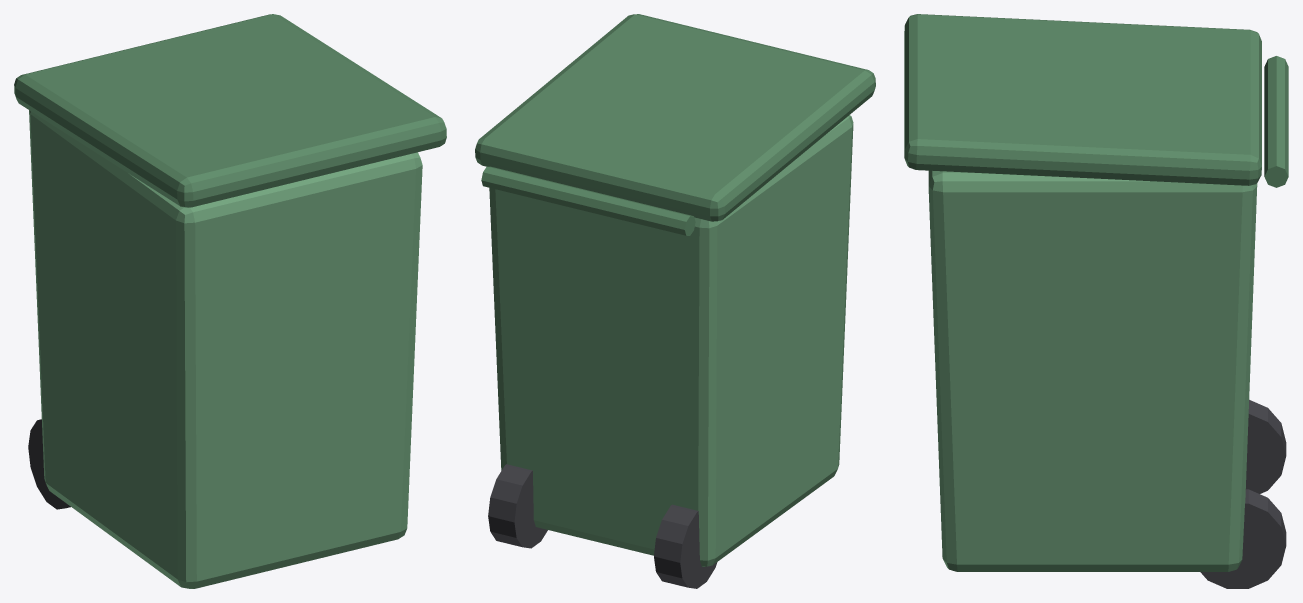
Rendered from BinModel.glb.
3 views of the same model, side by side, from view 1: azimuth 30°, elevation 25°; view 2: azimuth 150°, elevation 25°; view 3: azimuth 270°, elevation 25° (orthographic). The views are drawn at different scales.
Visible parts, largest first — view 1: BinModel; view 2: BinModel; view 3: BinModel.
Boxes of the visible parts, x1=… form: BinModel: x1=14, y1=14, x2=446, y2=588; BinModel: x1=475, y1=14, x2=875, y2=588; BinModel: x1=904, y1=14, x2=1288, y2=588.
Bounding box in the file's own units: 0.66 × 1.05 × 0.795.
